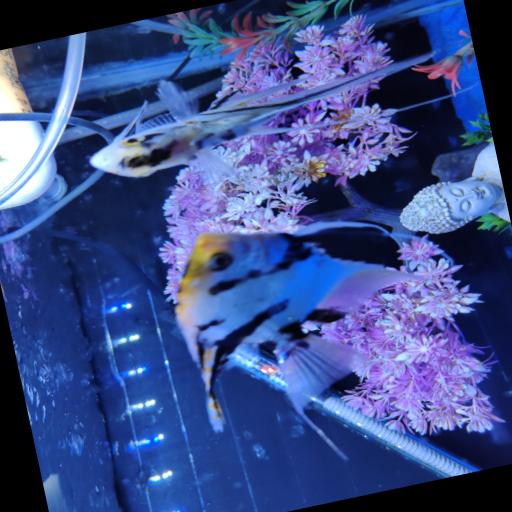Fish: (176, 230, 413, 431), (90, 52, 432, 176)
